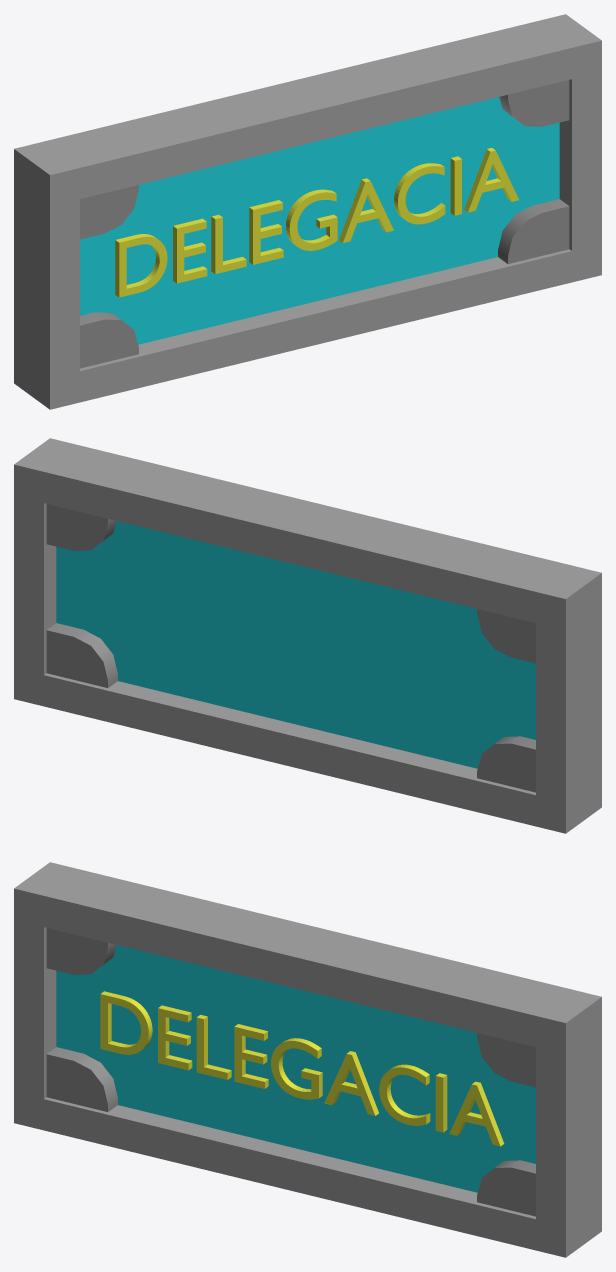
The model's file is DELGADO.fbx.
3 renders of one model, top to bottom at view 1: azimuth 30°, elevation 25°; view 2: azimuth 150°, elevation 25°; view 3: azimuth 330°, elevation 25°, orthographic.
Visible parts, largest first — view 1: Cube, Cube.002, Text, Cube.001; view 2: Cube, Cube.002, Cube.001; view 3: Cube, Cube.002, Text, Cube.001.
Part boxes in pixels (<box>): Cube: <box>14,14,601,409</box>; Cube.002: <box>80,97,559,344</box>; Text: <box>115,148,518,297</box>; Cube.001: <box>80,80,569,368</box>; Cube: <box>14,438,601,833</box>; Cube.002: <box>56,521,535,768</box>; Cube.001: <box>46,504,535,792</box>; Cube: <box>14,862,601,1257</box>; Cube.002: <box>56,945,535,1192</box>; Text: <box>100,991,504,1146</box>; Cube.001: <box>46,928,535,1216</box>.
Bounding box in the file's own units: 492 × 200 × 55.75.
